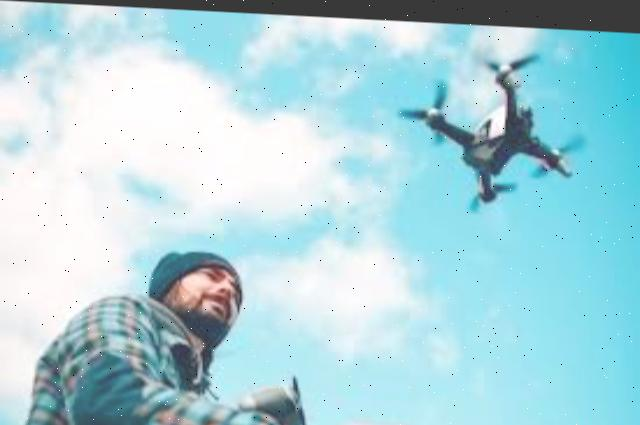drone: (401, 45, 597, 213)
